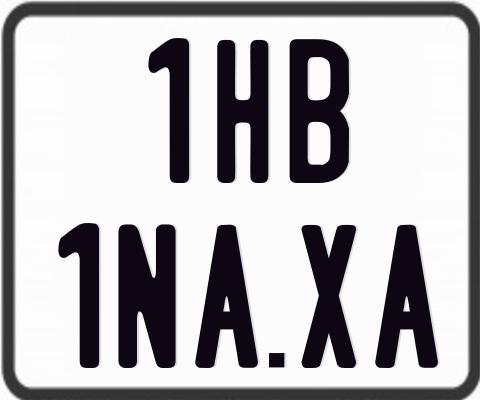1: (56, 222, 101, 373), (147, 37, 188, 184)
A: (192, 225, 261, 374), (373, 222, 436, 365)
B: (287, 37, 350, 183)
H: (215, 39, 270, 183)
N: (118, 223, 180, 369)
X: (299, 222, 353, 367)
